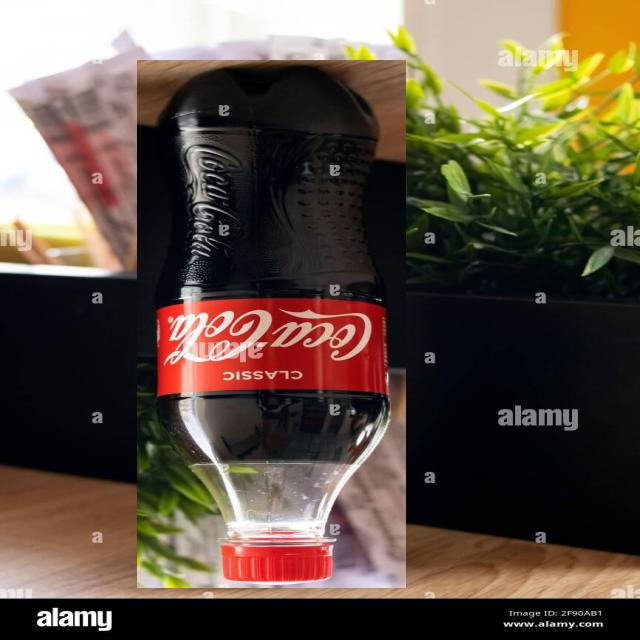coca-cola: (137, 60, 406, 588)
